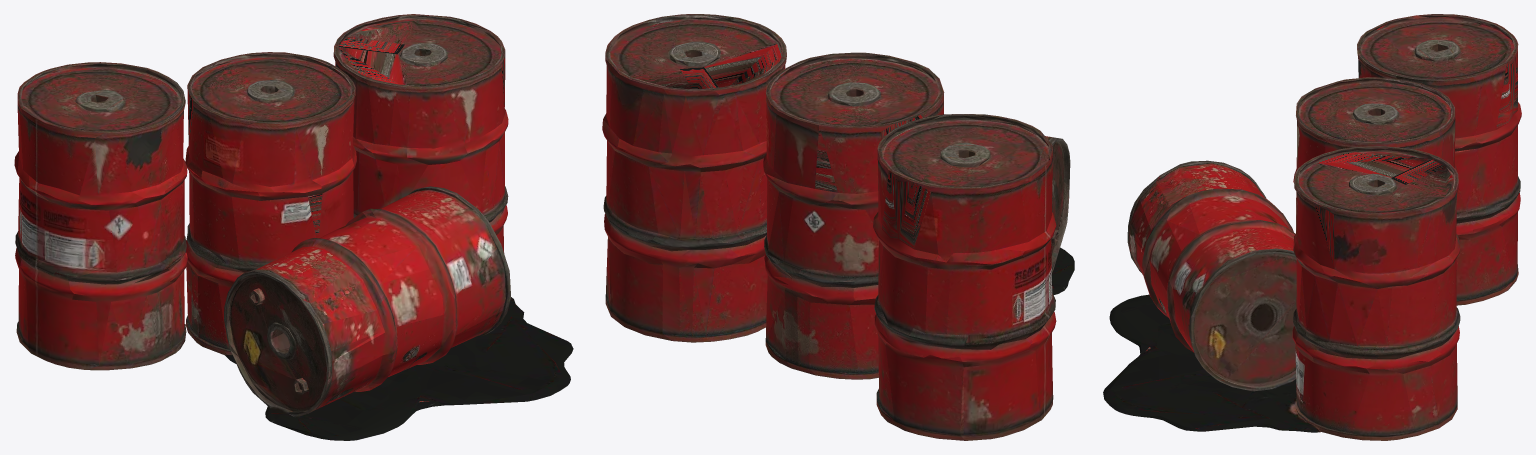
File: fuel_barrel_cluster.glb
3 views of the same model, side by side, from view 1: azimuth 30°, elevation 25°; view 2: azimuth 150°, elevation 25°; view 3: azimuth 270°, elevation 25° (orthographic). The views are drawn at different scales.
Size of the model in its own units: 1.9 by 0.99 by 1.66.
Materials: 1 (1 with a texture image).
